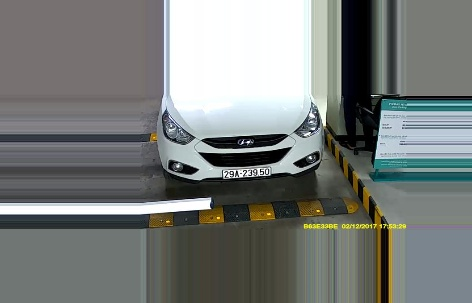plate: (220, 167, 273, 178)
